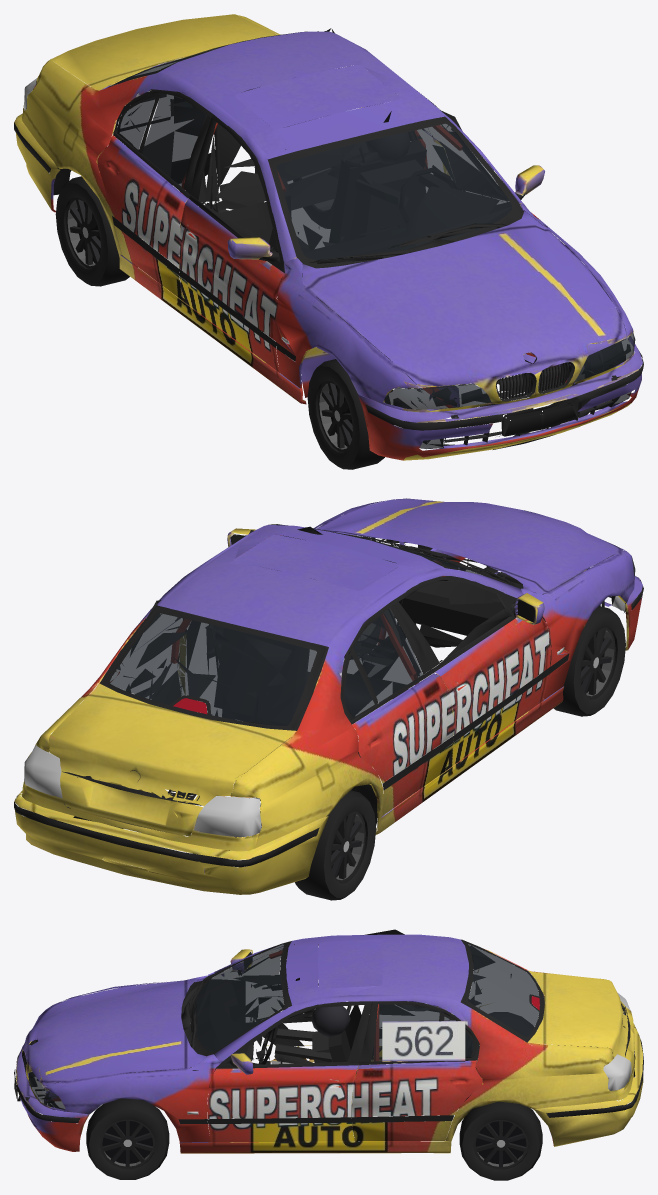
3 views of the same model, one above another, from view 1: azimuth 30°, elevation 25°; view 2: azimuth 150°, elevation 25°; view 3: azimuth 270°, elevation 25° (orthographic). The views are drawn at different scales.
Visible parts, largest first — view 1: body, wheel_fr, wheel_rr, wheel_fl, wheel_rl; view 2: body, wheel_rr, wheel_fr; view 3: body, wheel_fl, wheel_rl, wheel_rr.
Boxes of the visible parts, <box> form: body: <box>14,14,643,460</box>; wheel_fr: <box>307,359,393,469</box>; wheel_rr: <box>55,176,140,286</box>; wheel_fl: <box>556,342,625,410</box>; wheel_rl: <box>293,166,334,228</box>; body: <box>14,498,643,894</box>; wheel_rr: <box>295,790,375,900</box>; wheel_fr: <box>539,606,625,716</box>; body: <box>14,929,643,1153</box>; wheel_fl: <box>86,1098,169,1179</box>; wheel_rl: <box>459,1101,542,1180</box>; wheel_rr: <box>468,1012,539,1074</box>.
Bounding box in the file's own units: 2.04 × 1.46 × 4.78.
2 materials, 1 textured.
